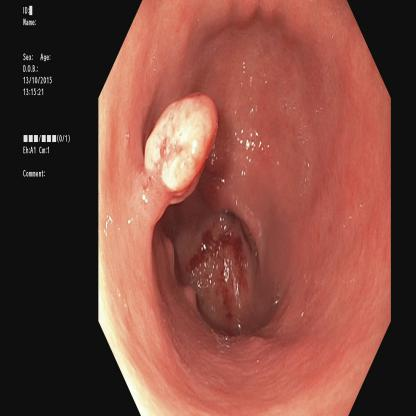Polyps: (138, 88, 219, 223)
